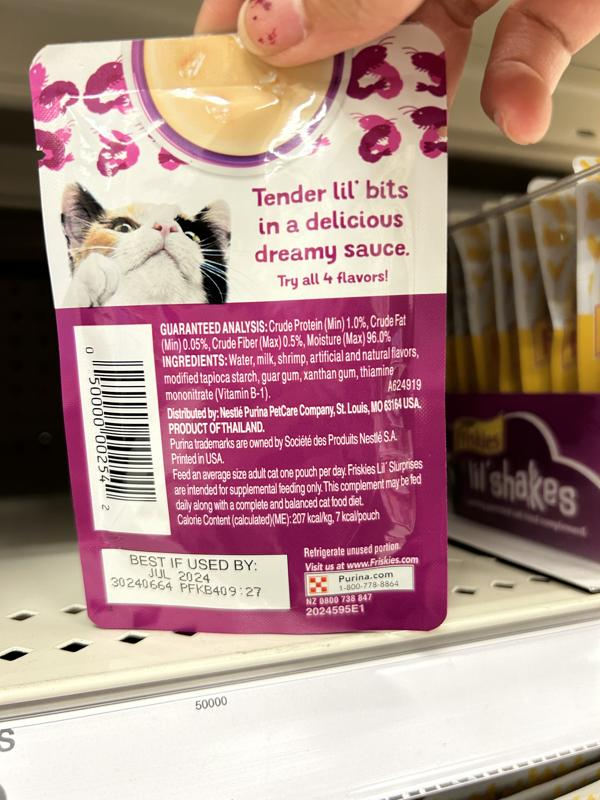ingredients: (162, 346, 422, 405)
